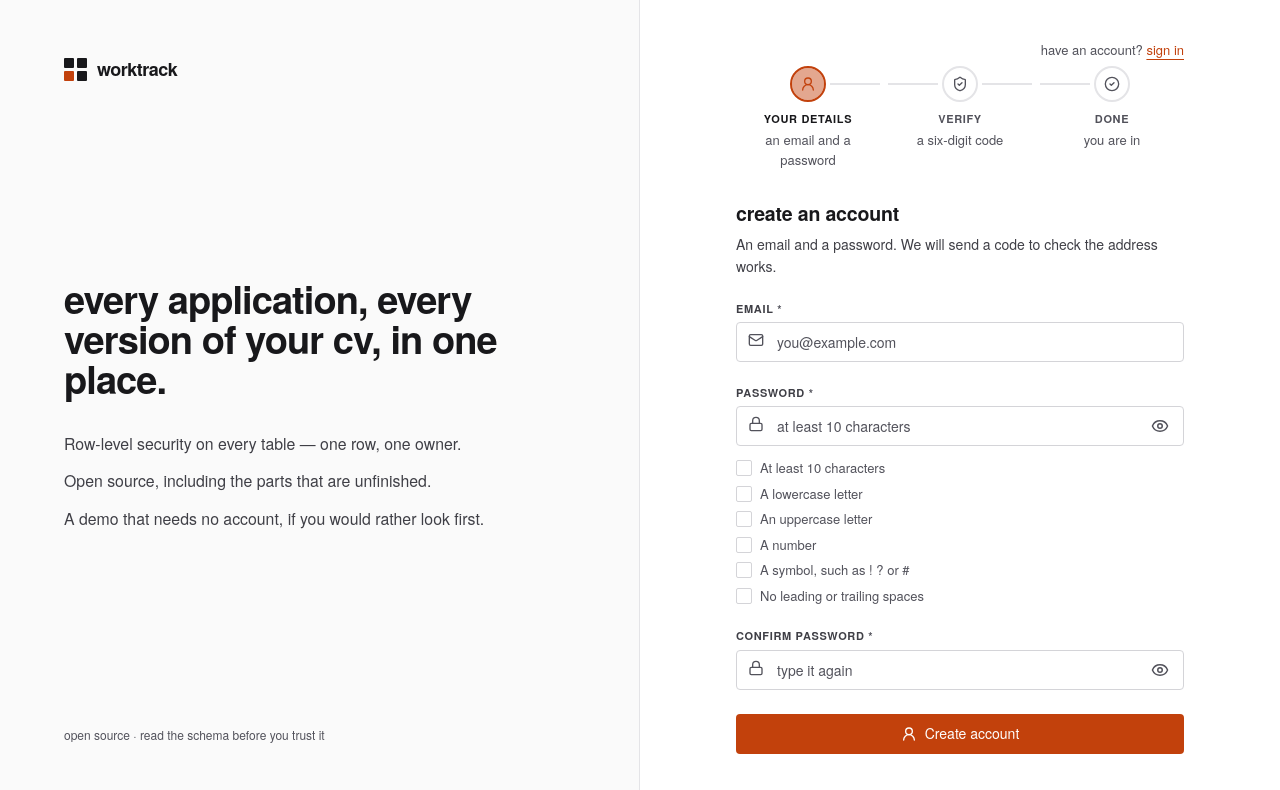
it: signing up with an address that already has an account › is not painted as a failure, because nothing failed
In the field labelled "Email *": (960, 342) [736,322,1184,362], type "gabe@example.com"
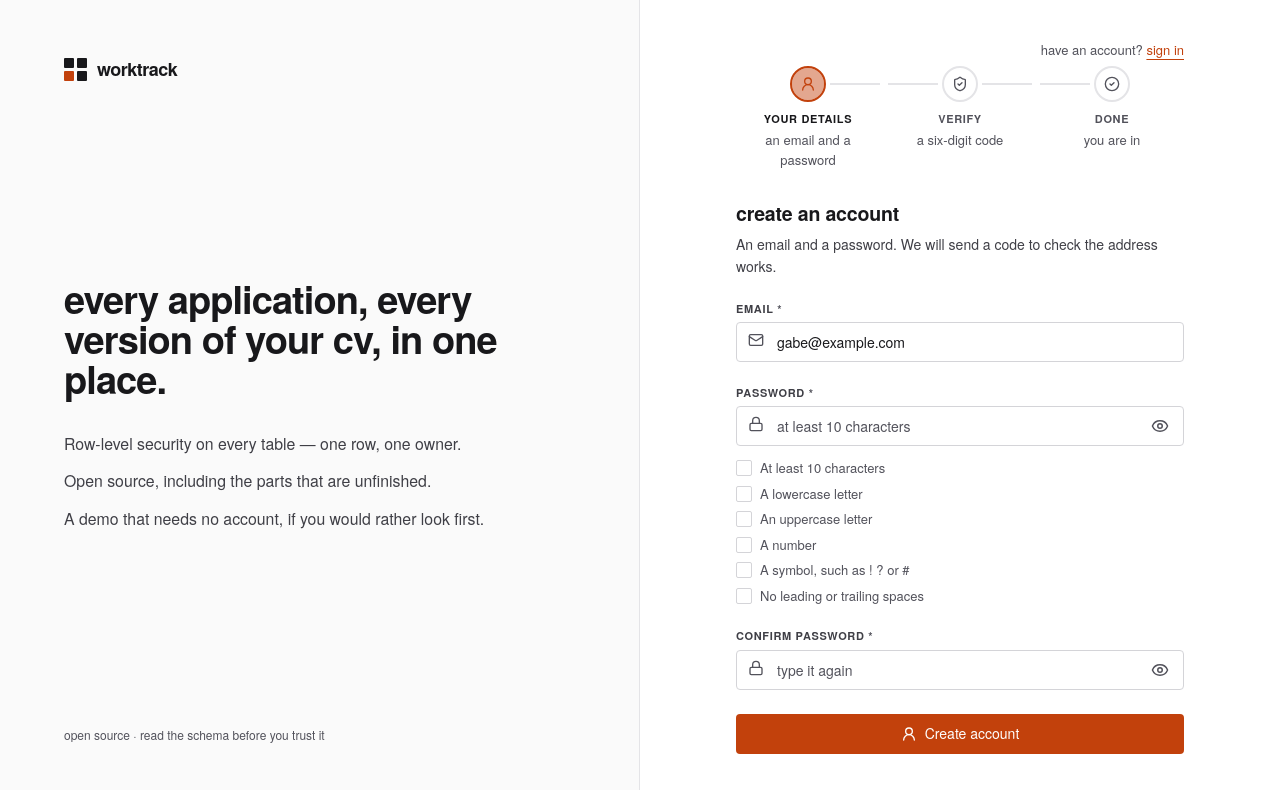
In the password field labelled "Password *": (960, 426) [736,406,1184,446], type "Str0ng!Passw0rd"
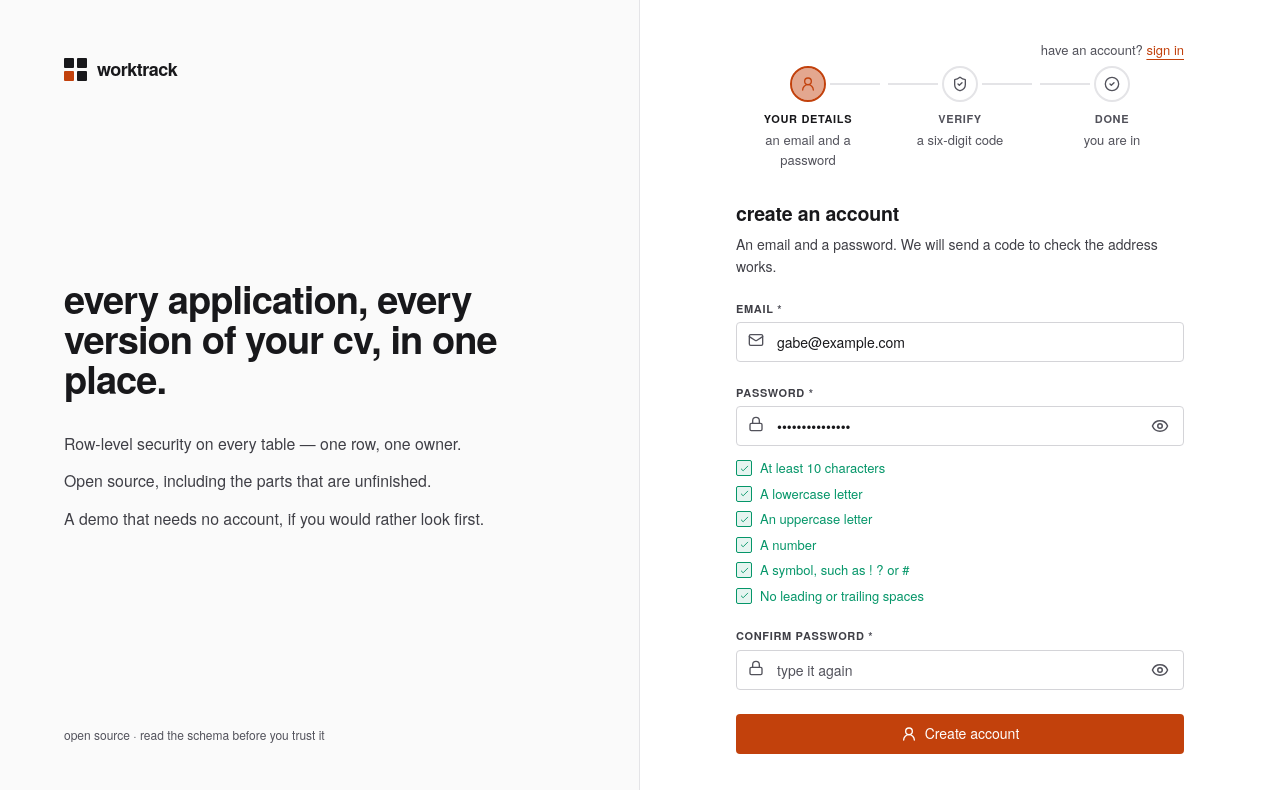
In the password field labelled "Confirm password *": (960, 670) [736,650,1184,690], type "Str0ng!Passw0rd"
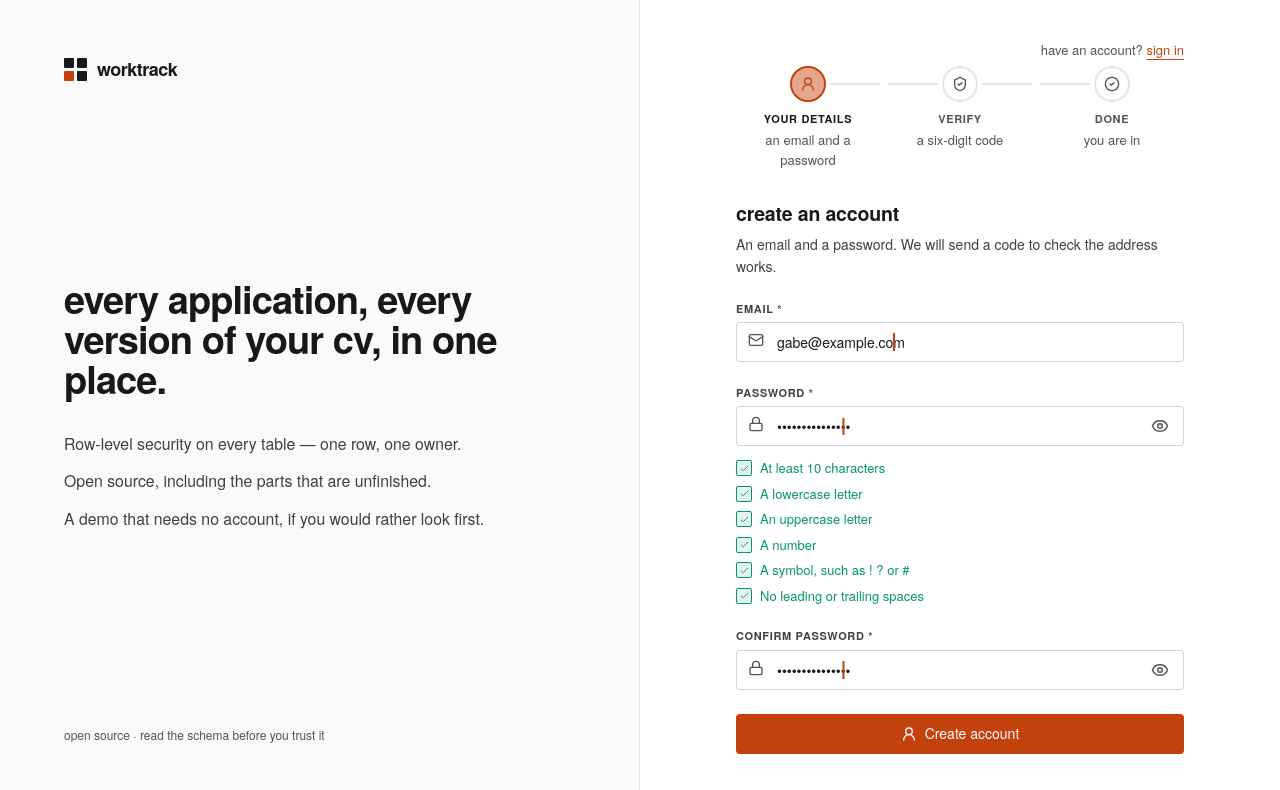
Click the button "Create account": (960, 734) [736,714,1184,754]
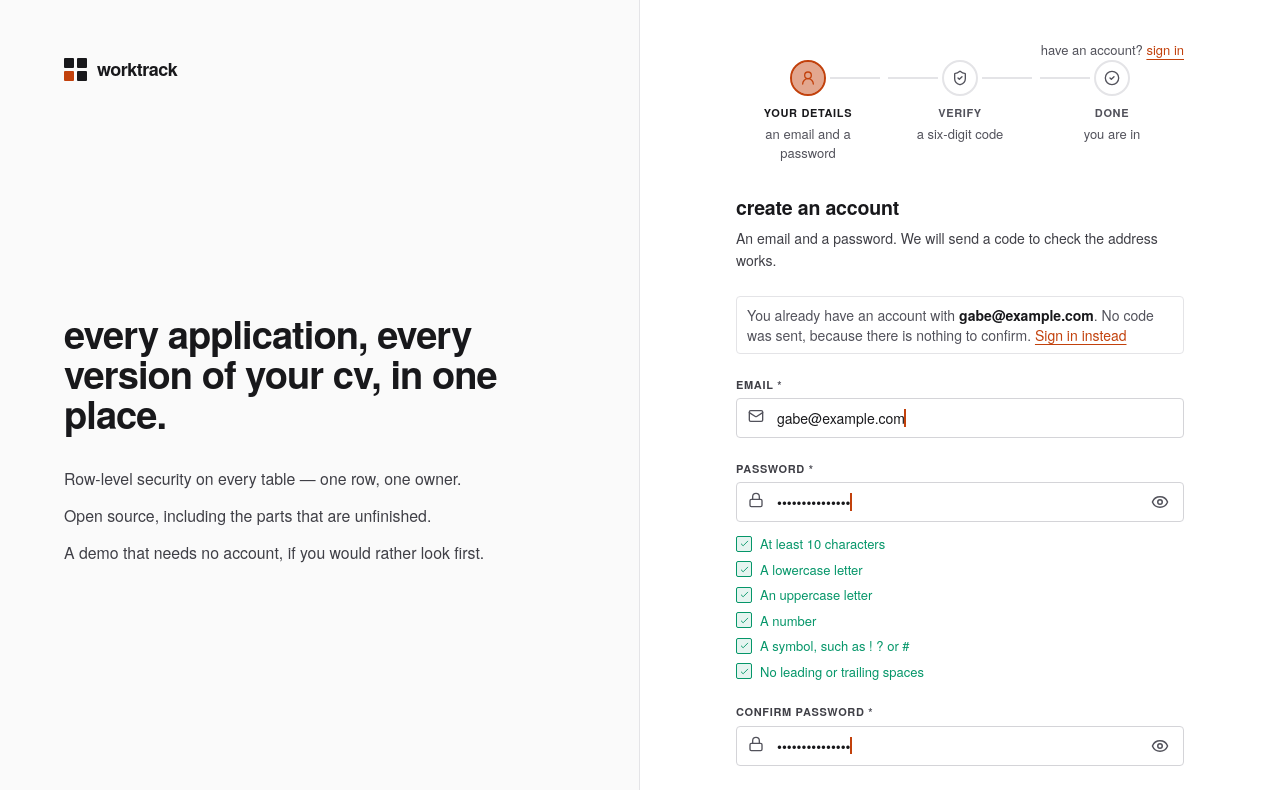
Now the message is shown, box [736,296,1184,354]
